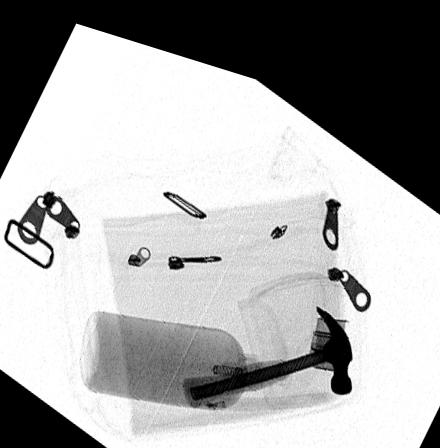Hammer: (180, 285, 353, 396)
